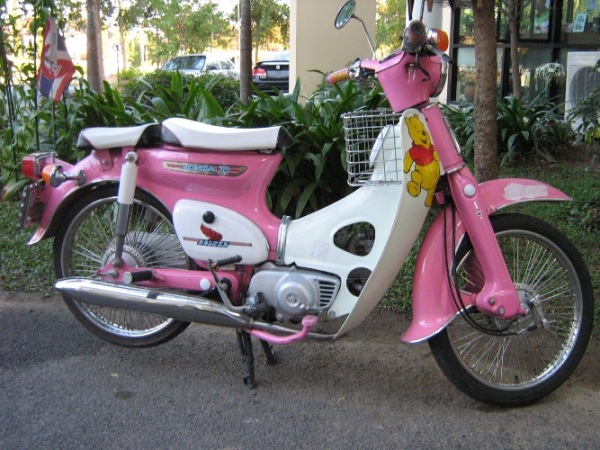motorcycle: (22, 4, 595, 404)
